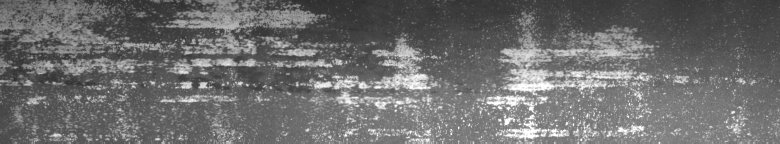kb: (4, 4, 764, 136)
